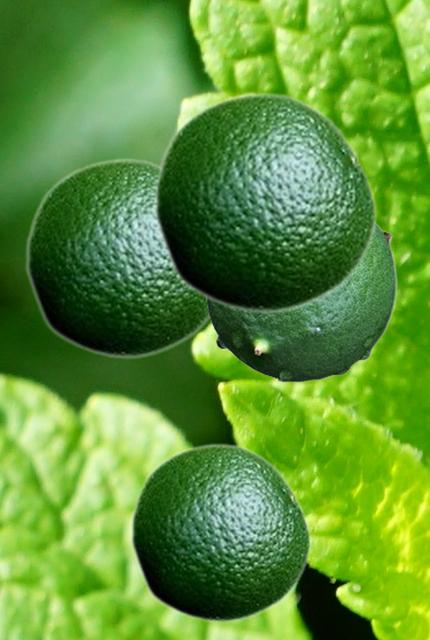calamansi: (152, 91, 377, 314), (24, 157, 209, 359), (129, 442, 311, 623), (205, 222, 396, 381)
